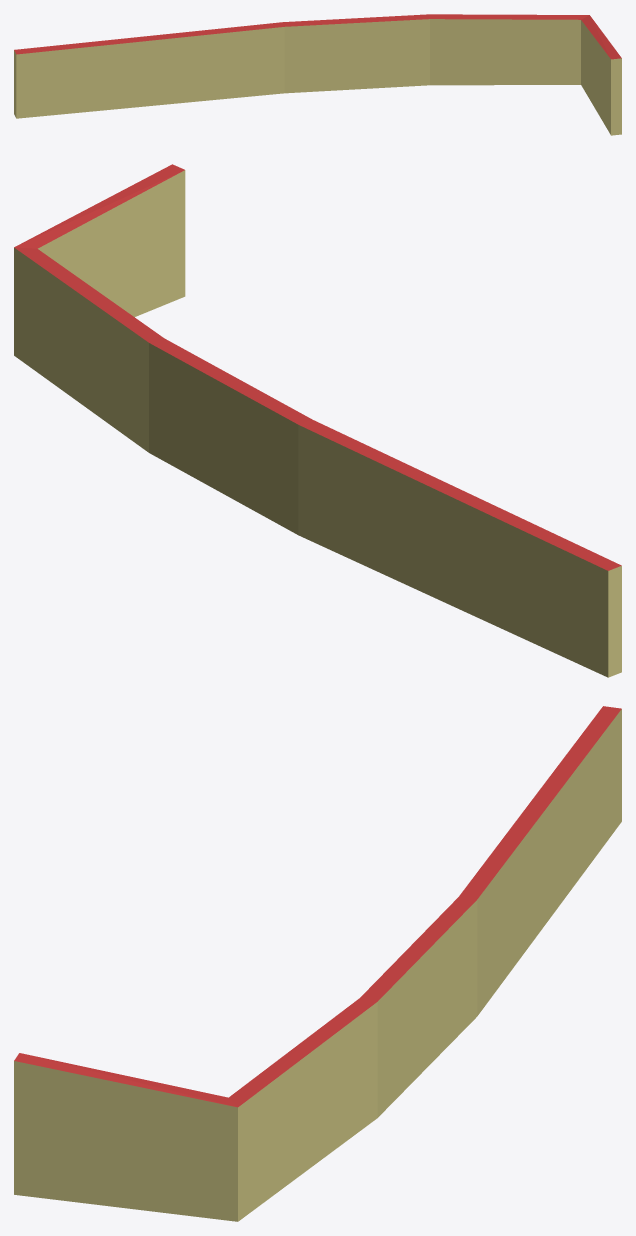
3 views of the same model, one above another, from view 1: azimuth 30°, elevation 25°; view 2: azimuth 150°, elevation 25°; view 3: azimuth 270°, elevation 25° (orthographic). The views are drawn at different scales.
Size of the model in its own units: 34.05 by 21.72 by 5.28.
